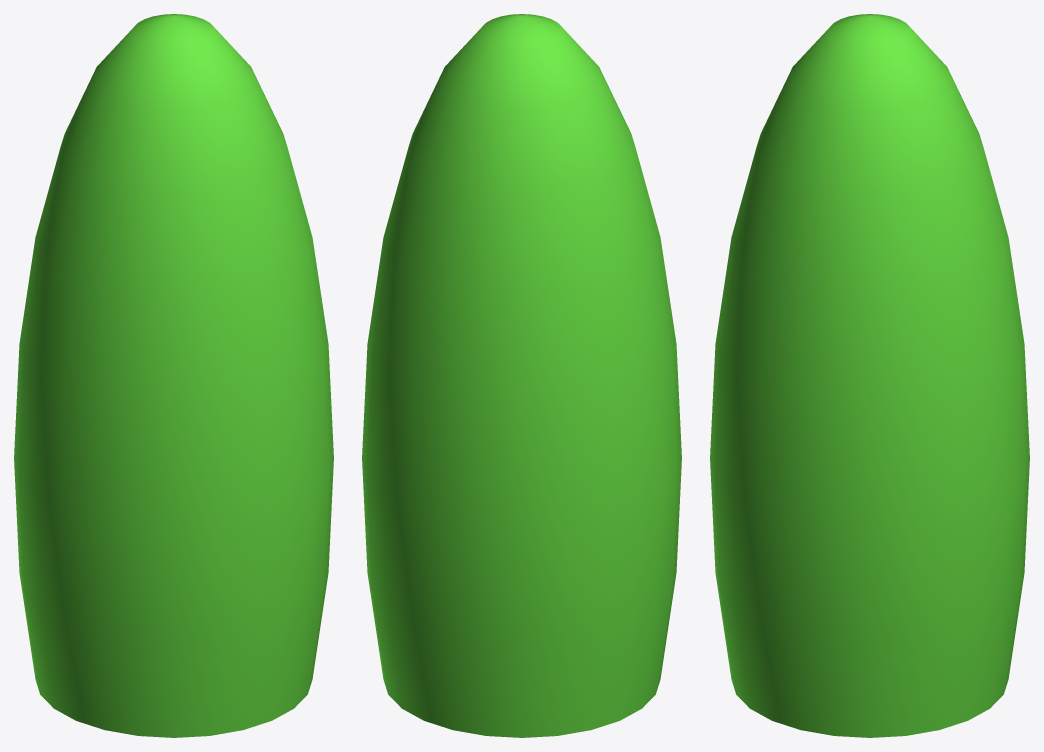
File: Bush_2.fbx
3 renders of one model, left to right at view 1: azimuth 30°, elevation 25°; view 2: azimuth 150°, elevation 25°; view 3: azimuth 270°, elevation 25°, orthographic.
Parts seen in each view (by area): view 1: Bush_2; view 2: Bush_2; view 3: Bush_2.
Part boxes in pixels (left/top/right/bottom): Bush_2: left=14, top=14, right=333, bottom=737; Bush_2: left=362, top=14, right=681, bottom=737; Bush_2: left=710, top=14, right=1029, bottom=737.
Bounding box in the file's own units: 0.5562 × 1.27 × 0.5562.
